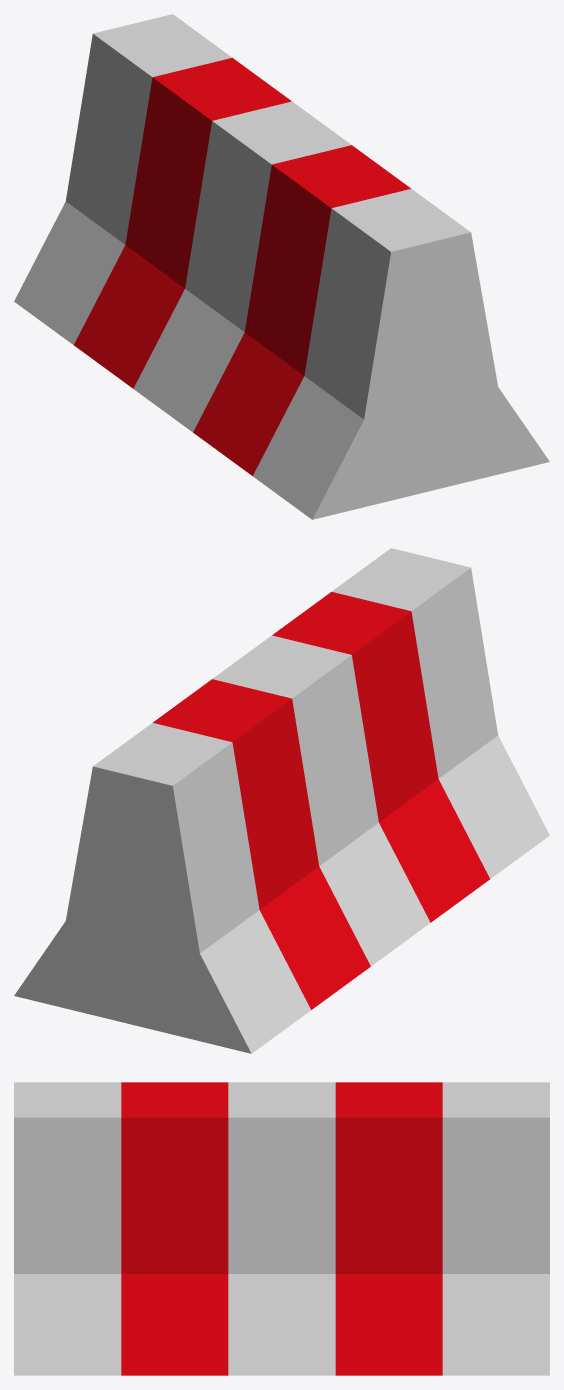
File: obsticle1.fbx
3 views of the same model, one above another, from view 1: azimuth 30°, elevation 25°; view 2: azimuth 150°, elevation 25°; view 3: azimuth 270°, elevation 25° (orthographic). The views are drawn at different scales.
Visible parts, largest first — view 1: Cube; view 2: Cube; view 3: Cube.
Boxes of the visible parts, left/top/right/bottom form: Cube: left=14, top=14, right=549, bottom=519; Cube: left=14, top=548, right=549, bottom=1053; Cube: left=14, top=1082, right=549, bottom=1375.
Size of the model in its own units: 200 by 200 by 435.
